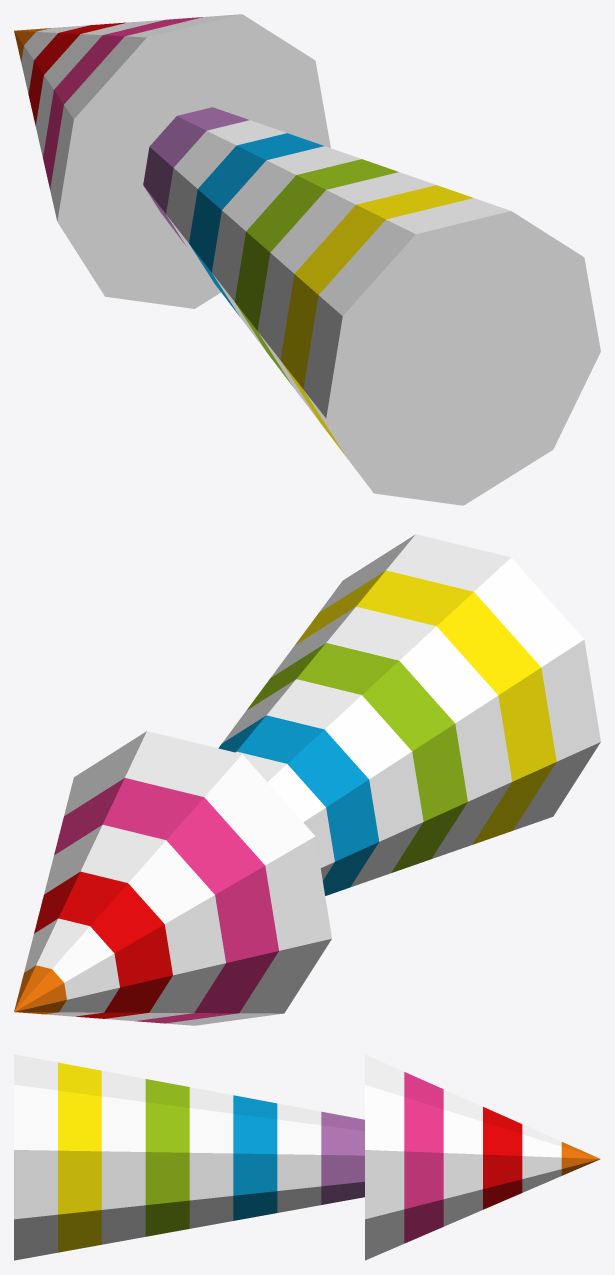
The model's file is FLECHA.fbx.
3 views of the same model, one above another, from view 1: azimuth 30°, elevation 25°; view 2: azimuth 150°, elevation 25°; view 3: azimuth 270°, elevation 25° (orthographic). The views are drawn at different scales.
Parts seen in each view (by area): view 1: FLECHA; view 2: FLECHA; view 3: FLECHA.
Part boxes in pixels (<box>): FLECHA: <box>14,14,600,505</box>; FLECHA: <box>14,534,600,1025</box>; FLECHA: <box>14,1054,600,1260</box>.
Bounding box in the file's own units: 21.77 × 21.44 × 61.71.
Materials: 1 (1 with a texture image).
